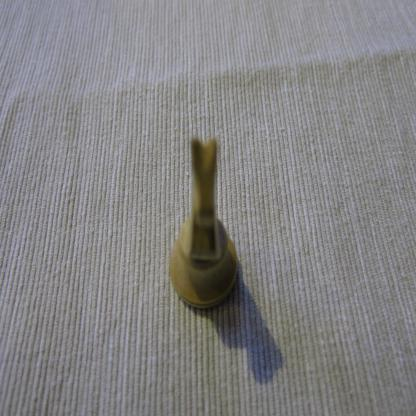white-knight: (168, 134, 238, 312)
